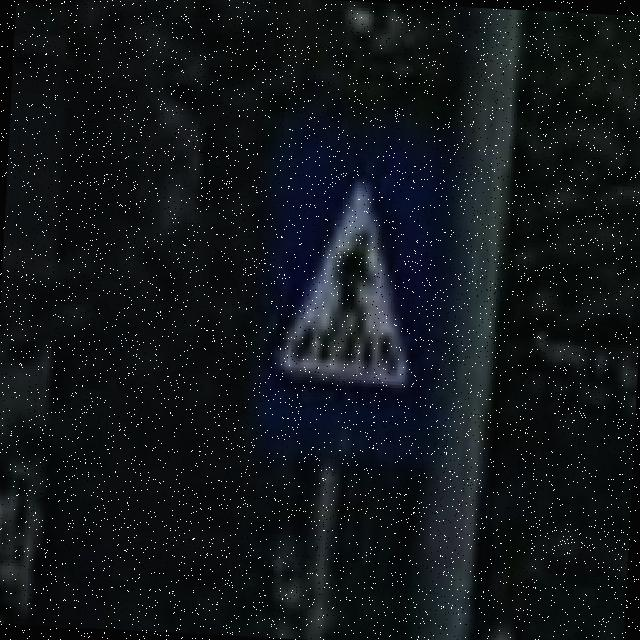Przejscie dla pieszych: (247, 152, 438, 442)
